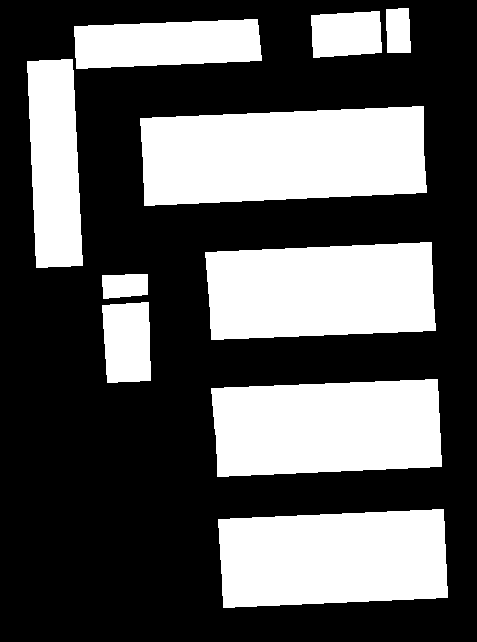parkingspot: (140, 106, 423, 164), (143, 148, 426, 205), (218, 509, 445, 567), (205, 242, 432, 299), (211, 379, 439, 434), (221, 552, 447, 607), (216, 422, 441, 476), (209, 286, 435, 339), (27, 59, 82, 267), (74, 19, 261, 68), (102, 302, 150, 382), (311, 11, 381, 57), (102, 274, 147, 298), (386, 8, 410, 52)
